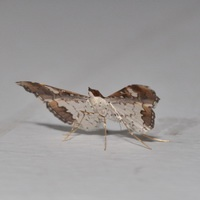insect: (16, 81, 159, 148)
